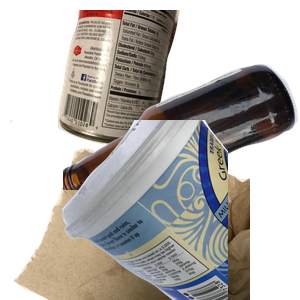glass: (63, 62, 300, 242)
metal: (55, 10, 227, 149)
plastic: (60, 120, 300, 300)
trash: (10, 120, 250, 300)
